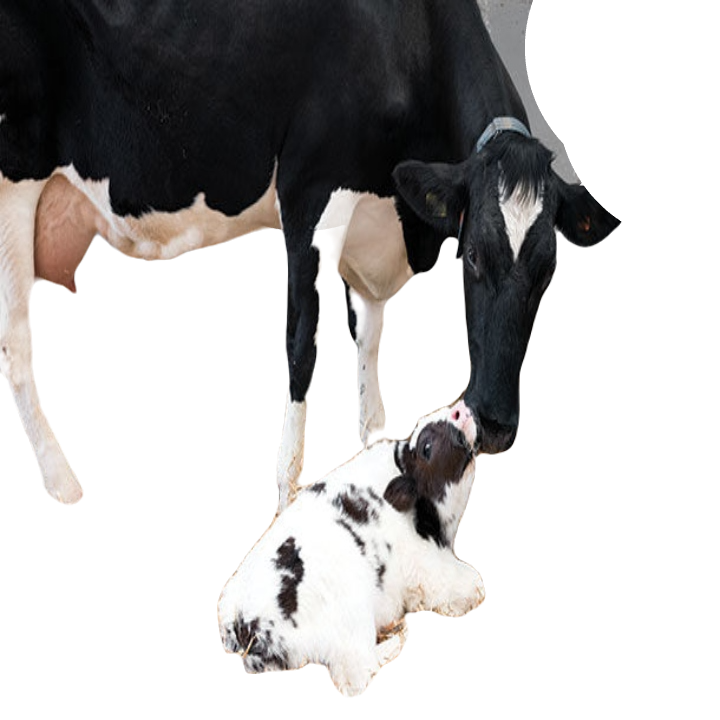Cow: (2, 2, 621, 501)
